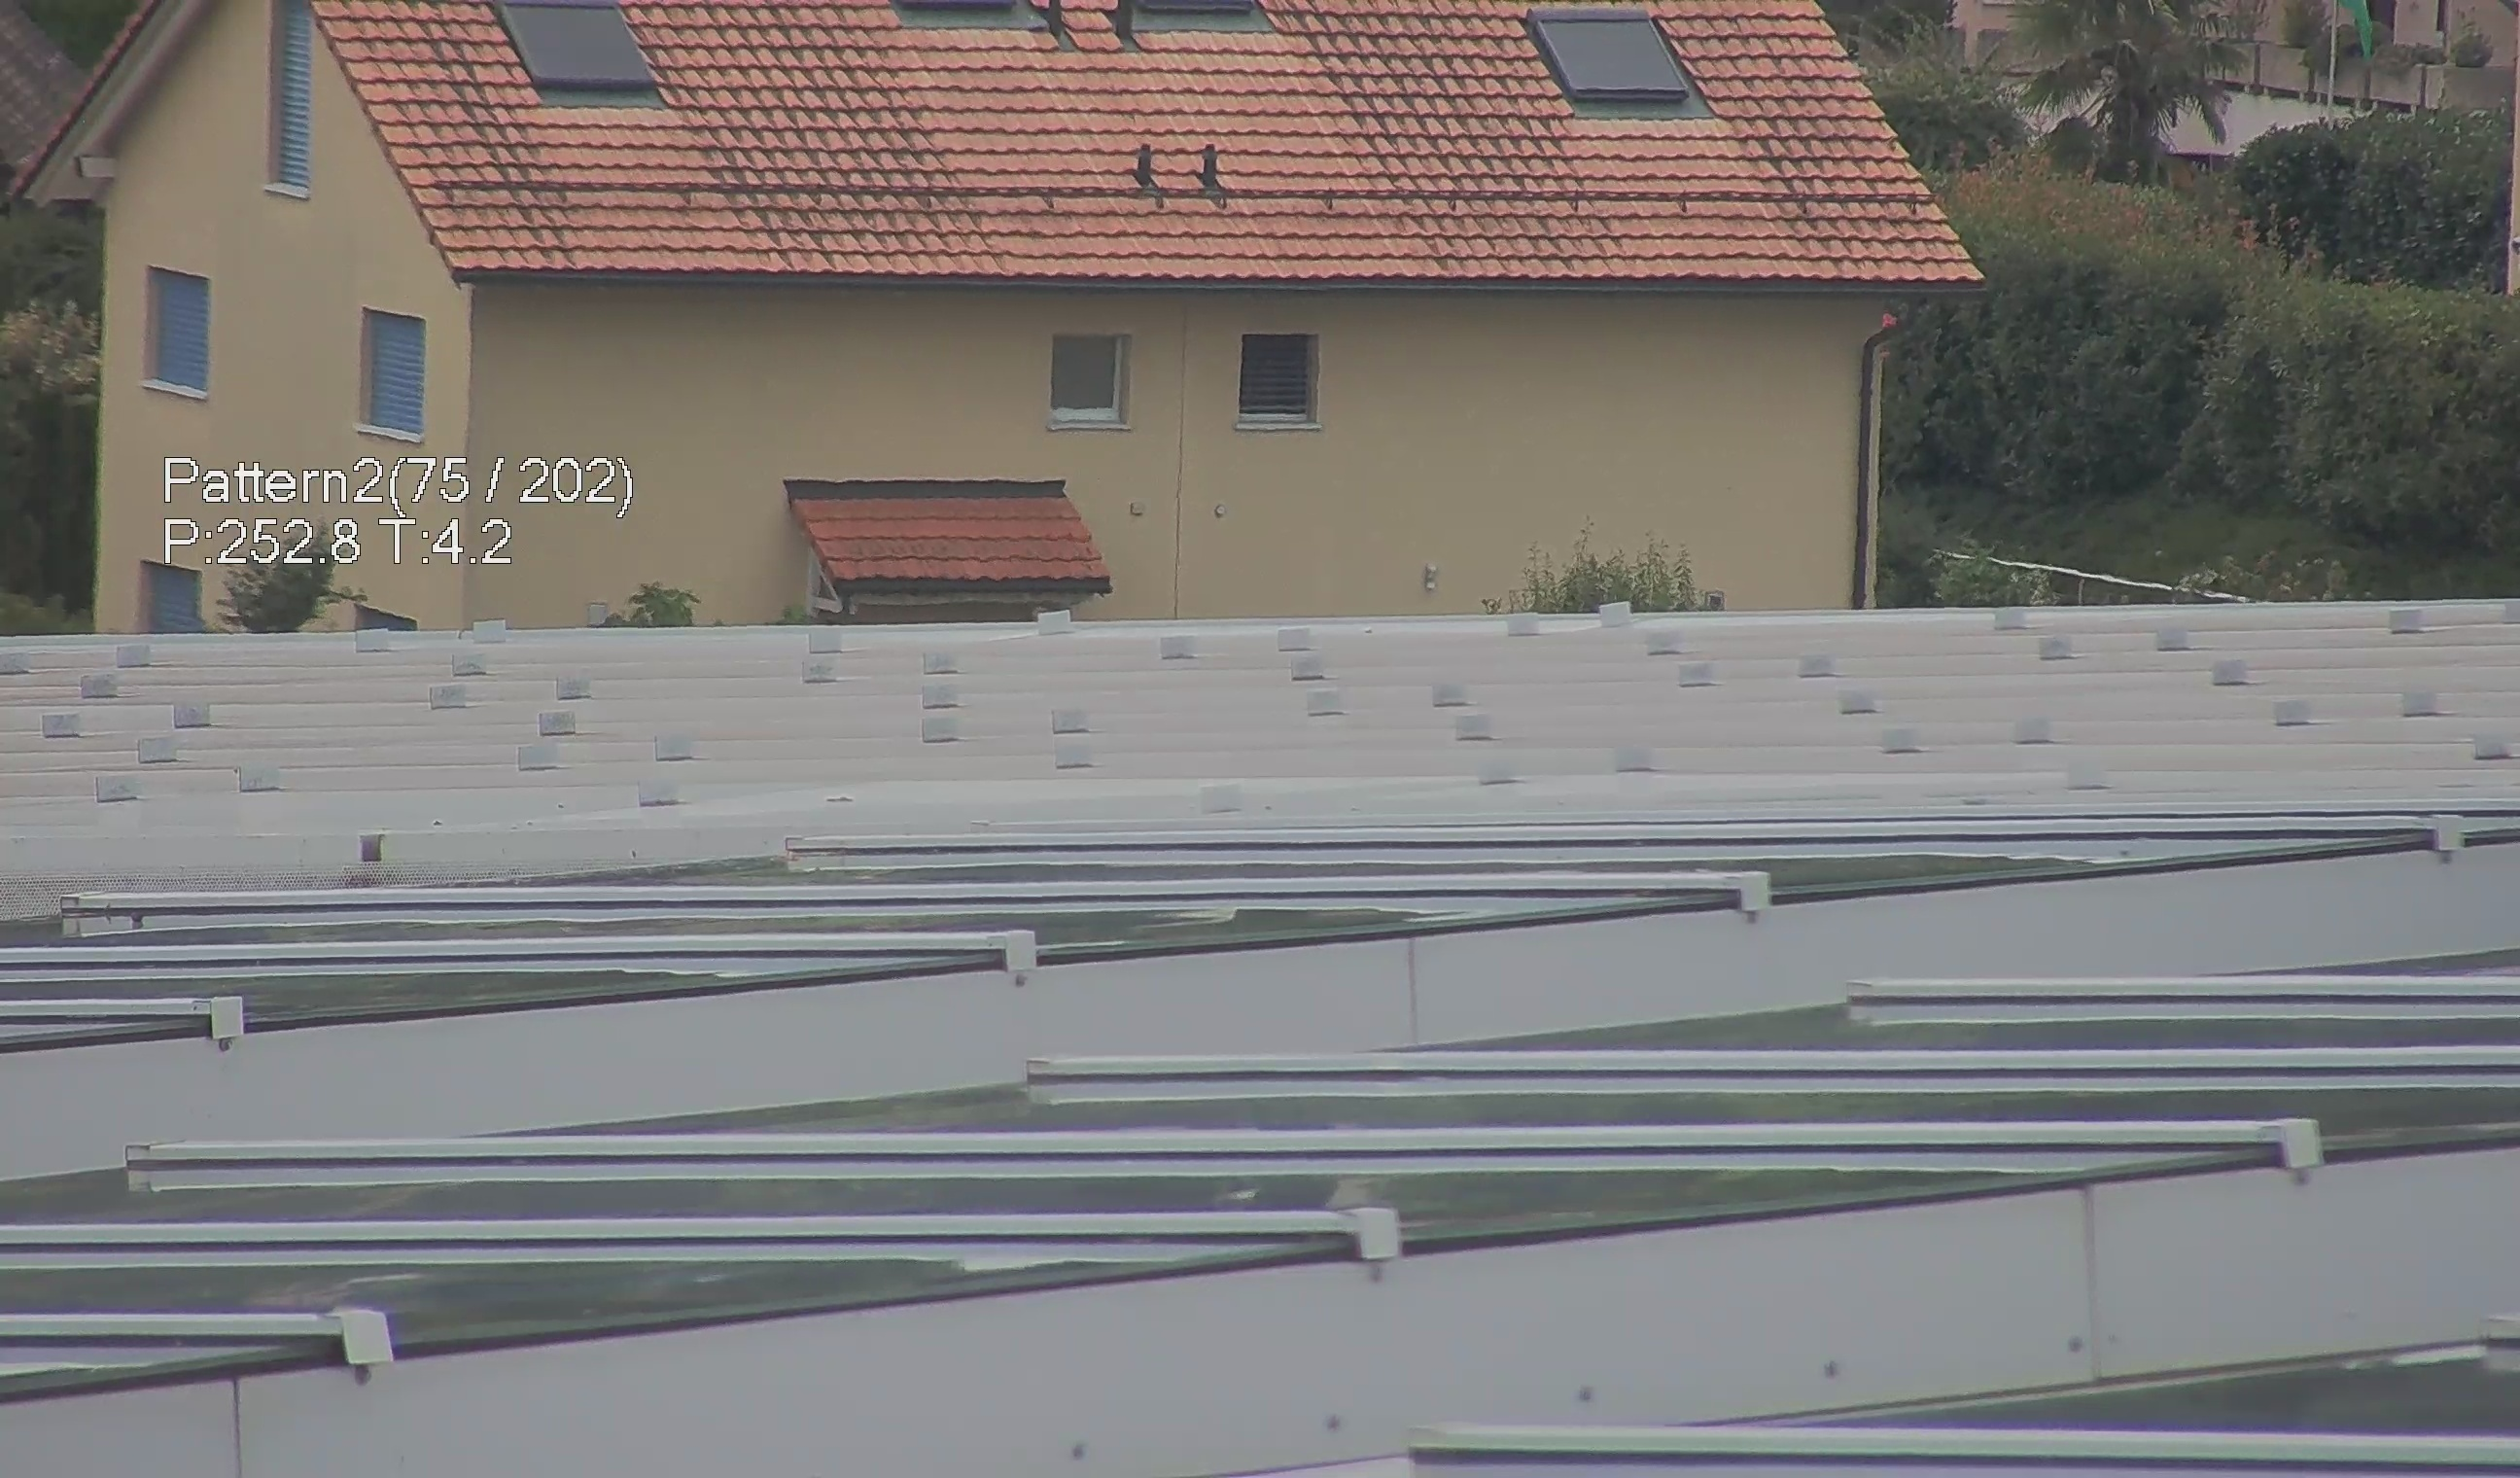Other: (192, 523, 357, 642)
